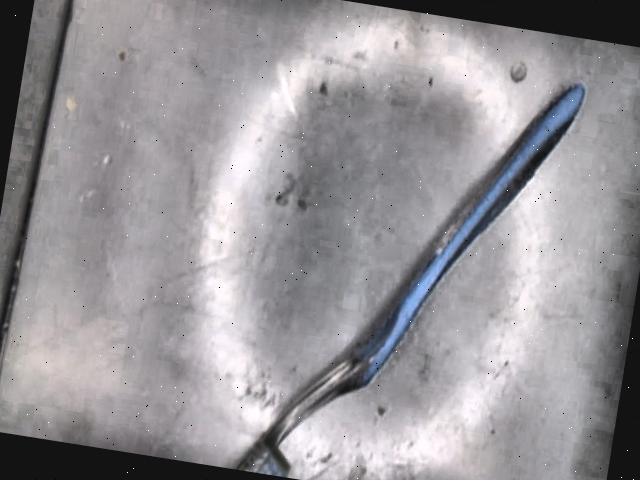Plastic: (242, 84, 584, 477)
